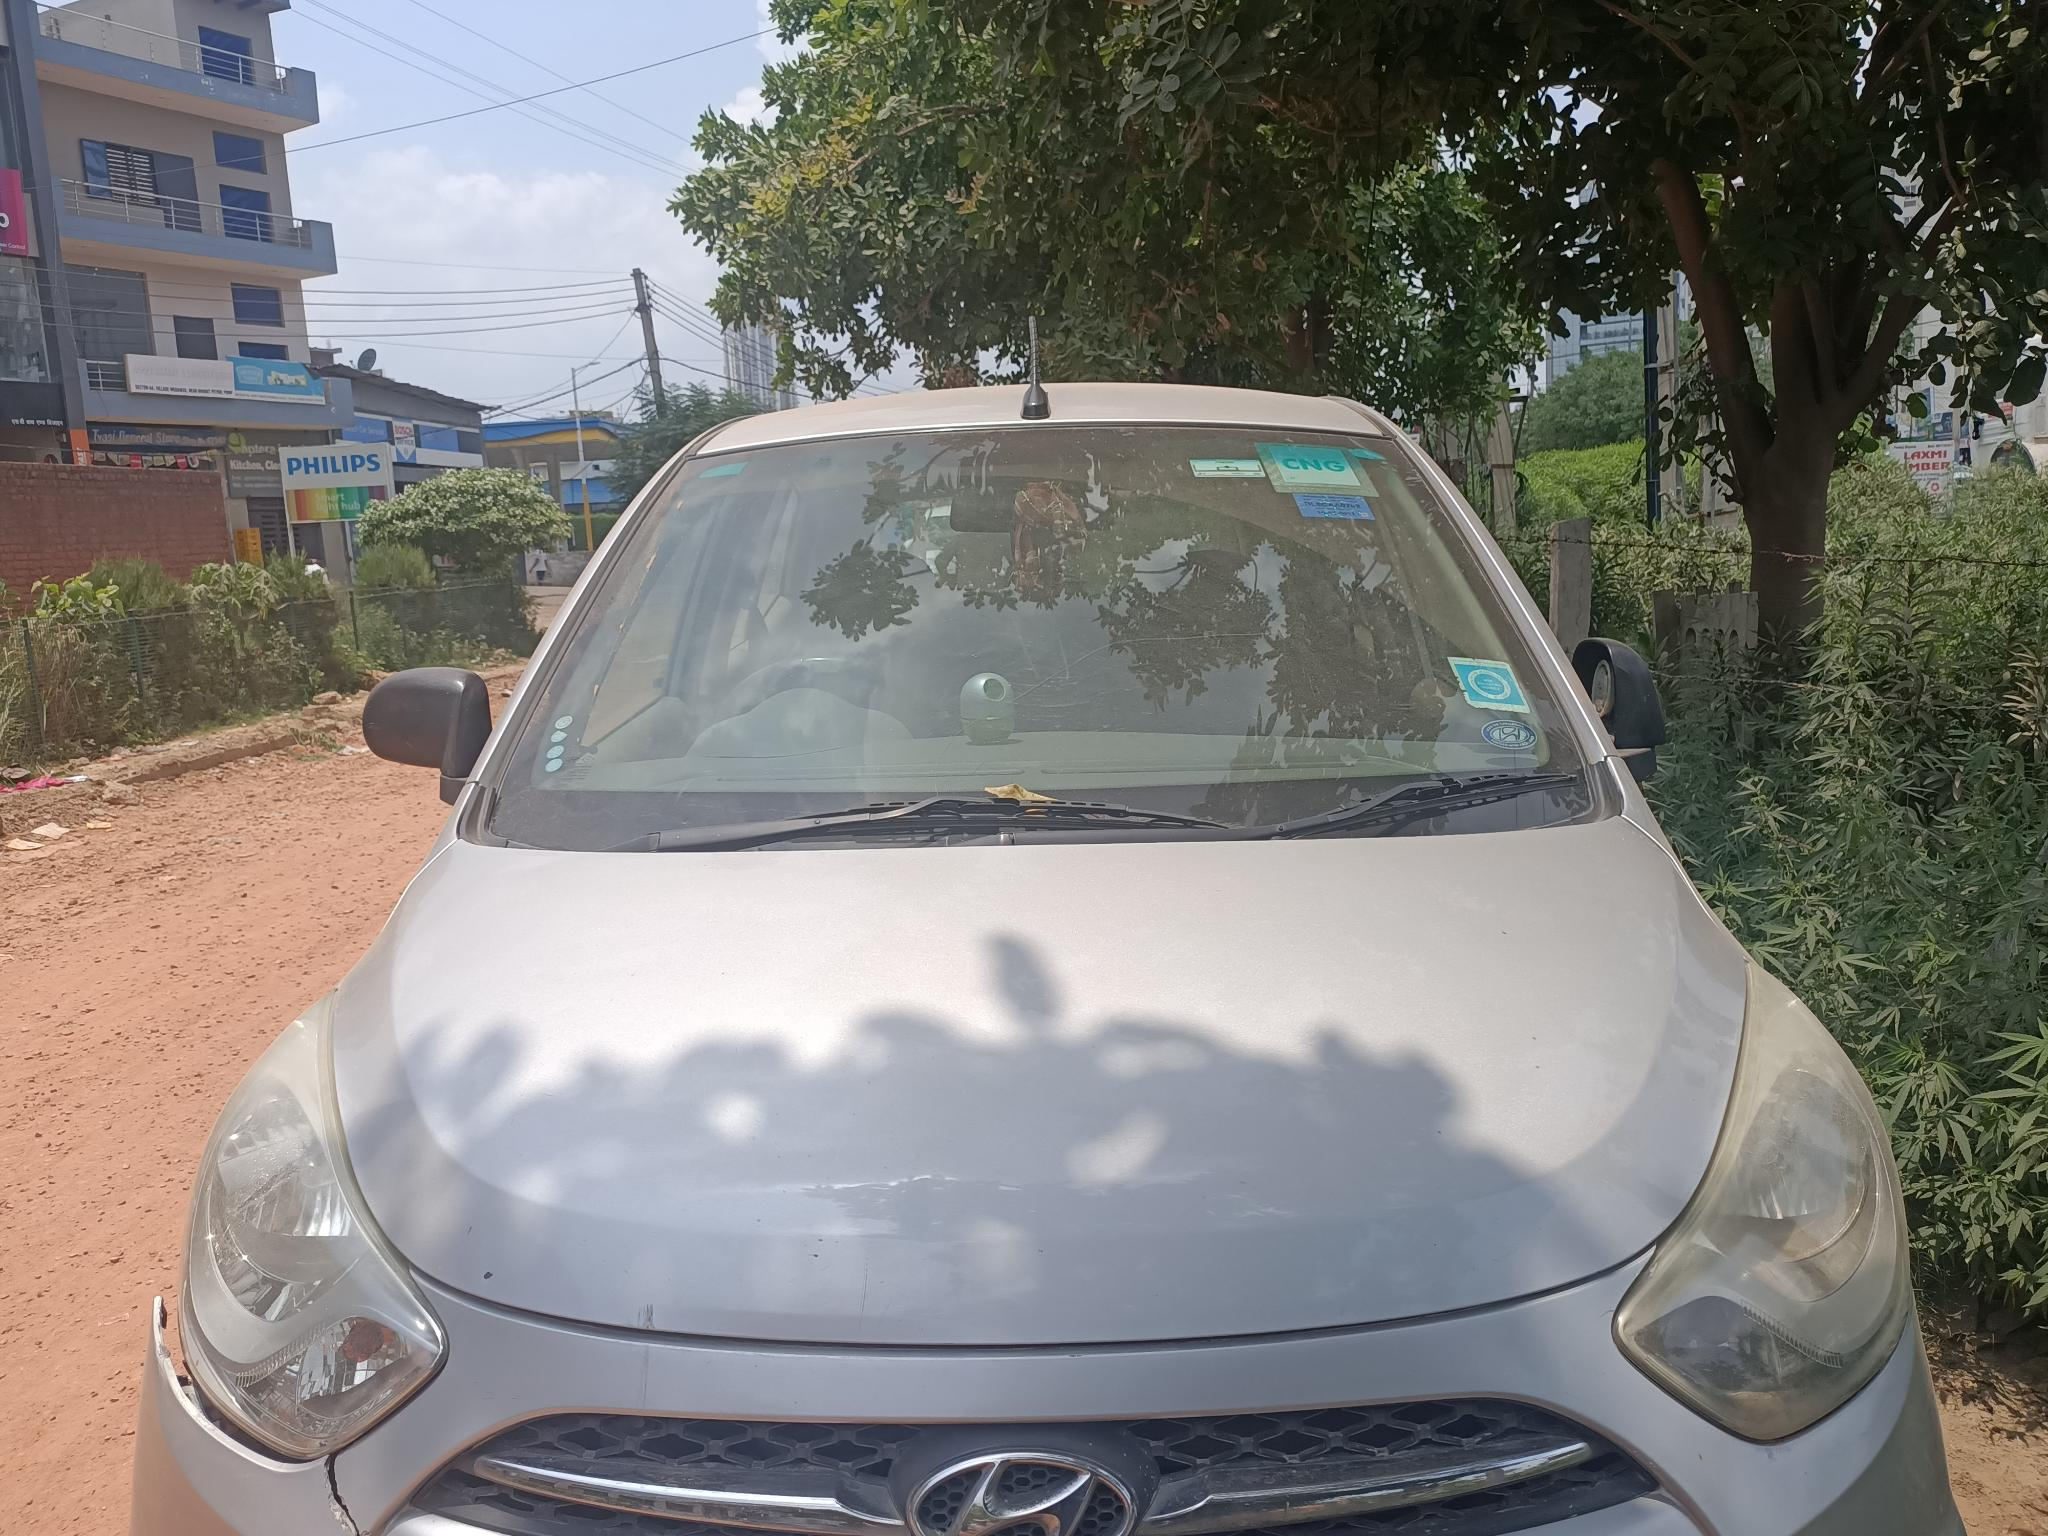FastTag: (1182, 455, 1268, 487)
not a FastTag: (1255, 442, 1376, 497), (1430, 653, 1532, 712), (1298, 494, 1380, 529), (547, 716, 577, 794), (1479, 720, 1542, 752), (703, 452, 751, 486)
